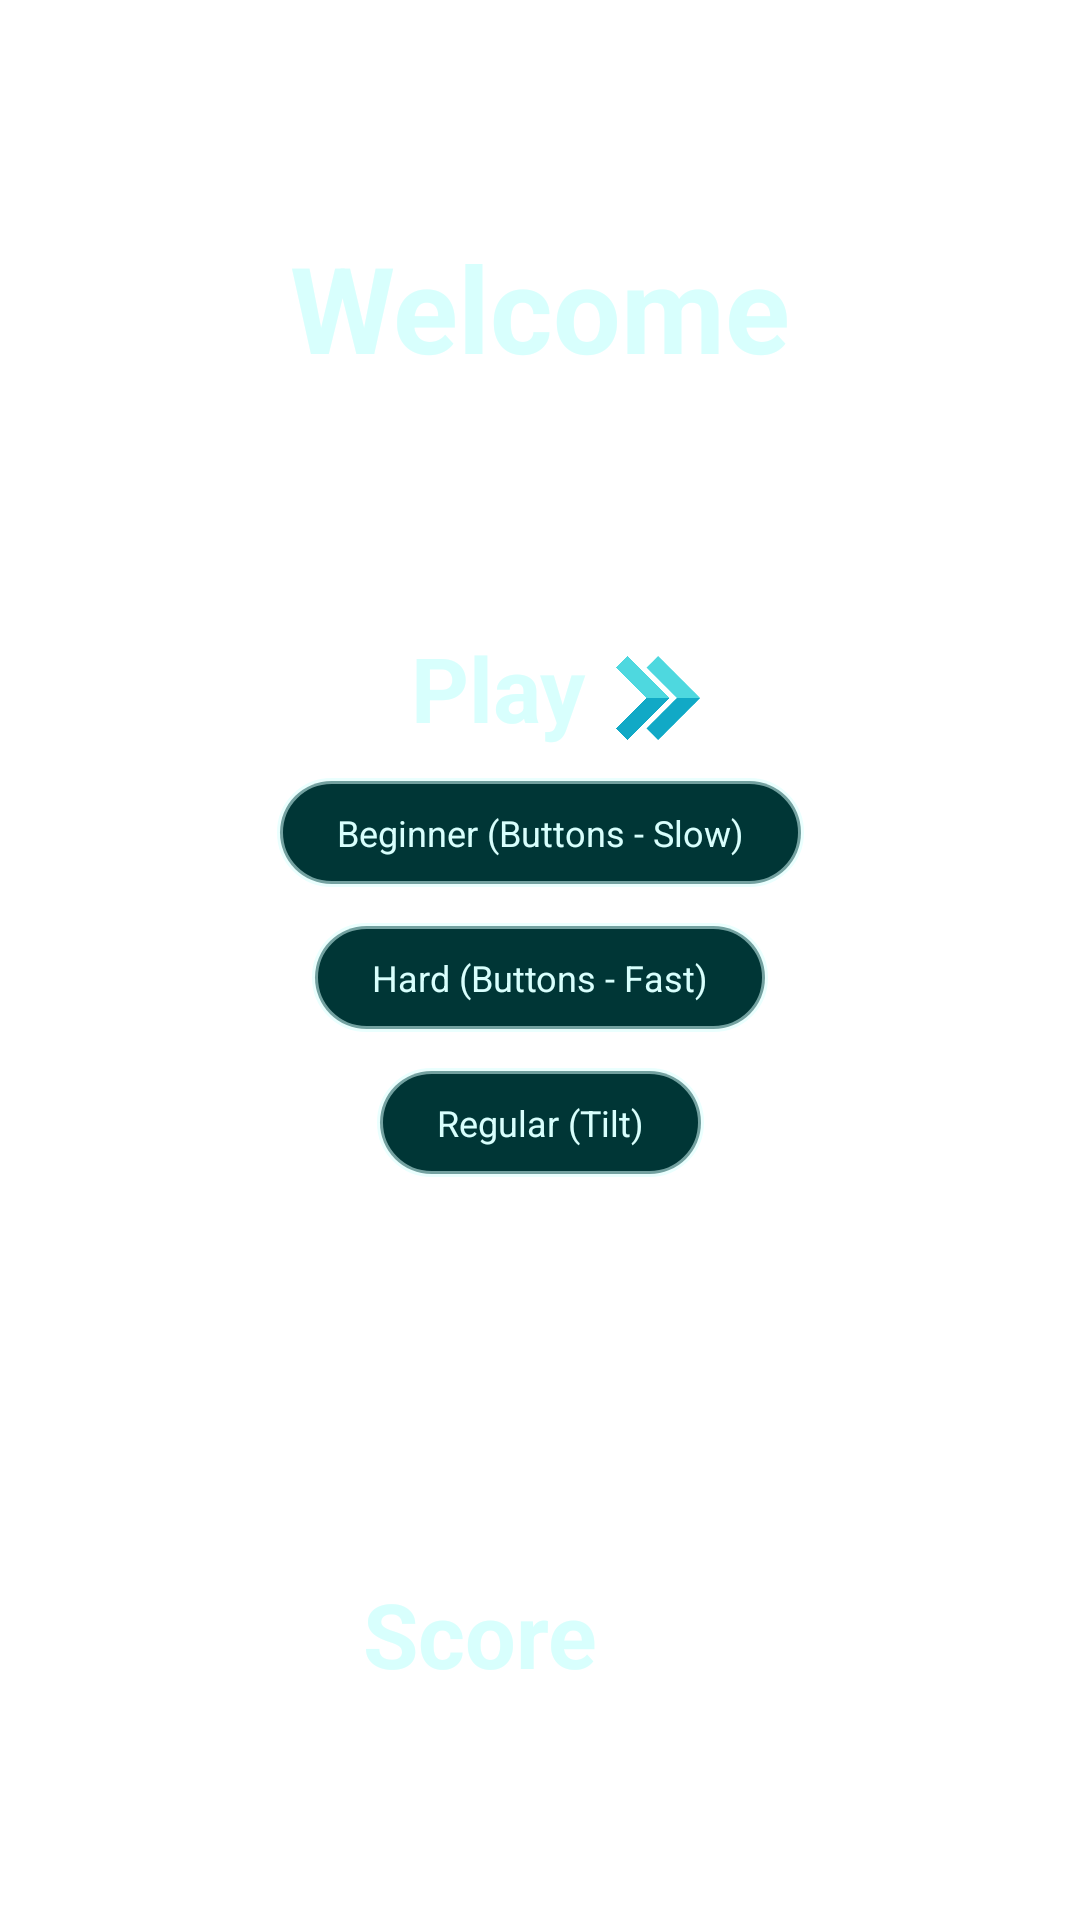

Named icons in this screenshot (1080×1920) and their centers, (x,y):
arrow right: (658,698)
